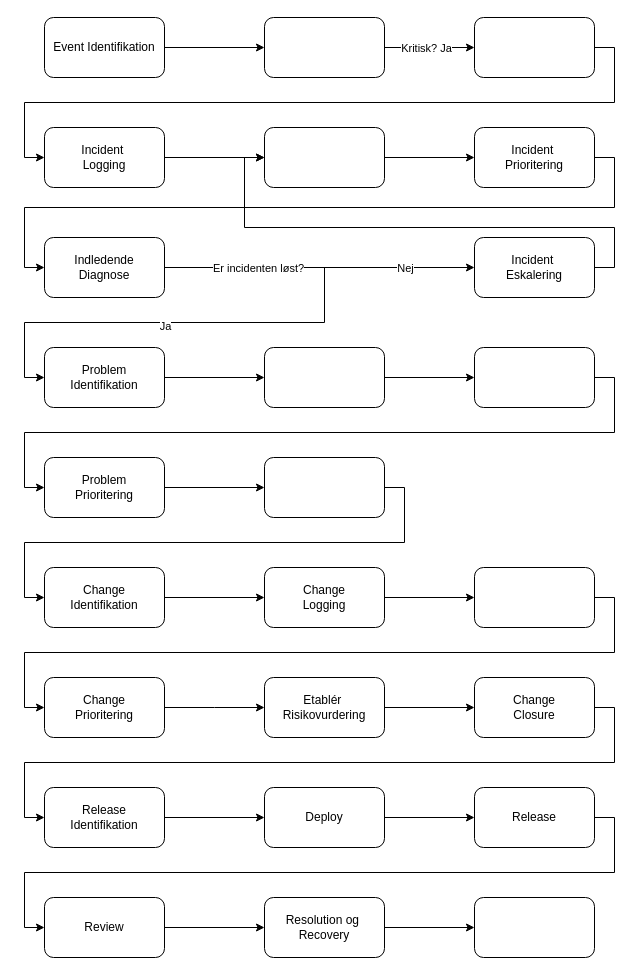
Image size: 640x975. Some labels were removed from this diagram. The shapes that lost their labels are listed below. From the top down, each one's centre as x and y in pixels, then its label:
At [324,47]: "Event Logging".
At [534,47]: "Incident Identifikation".
At [324,157]: "Incident Kategorisering".
At [324,377]: "Problem Logging".
At [534,377]: "Problem Kategorisering".
At [324,487]: "Problem Diagnose".
At [534,597]: "Change Kategorisering".
At [534,927]: "Incident Closure".
